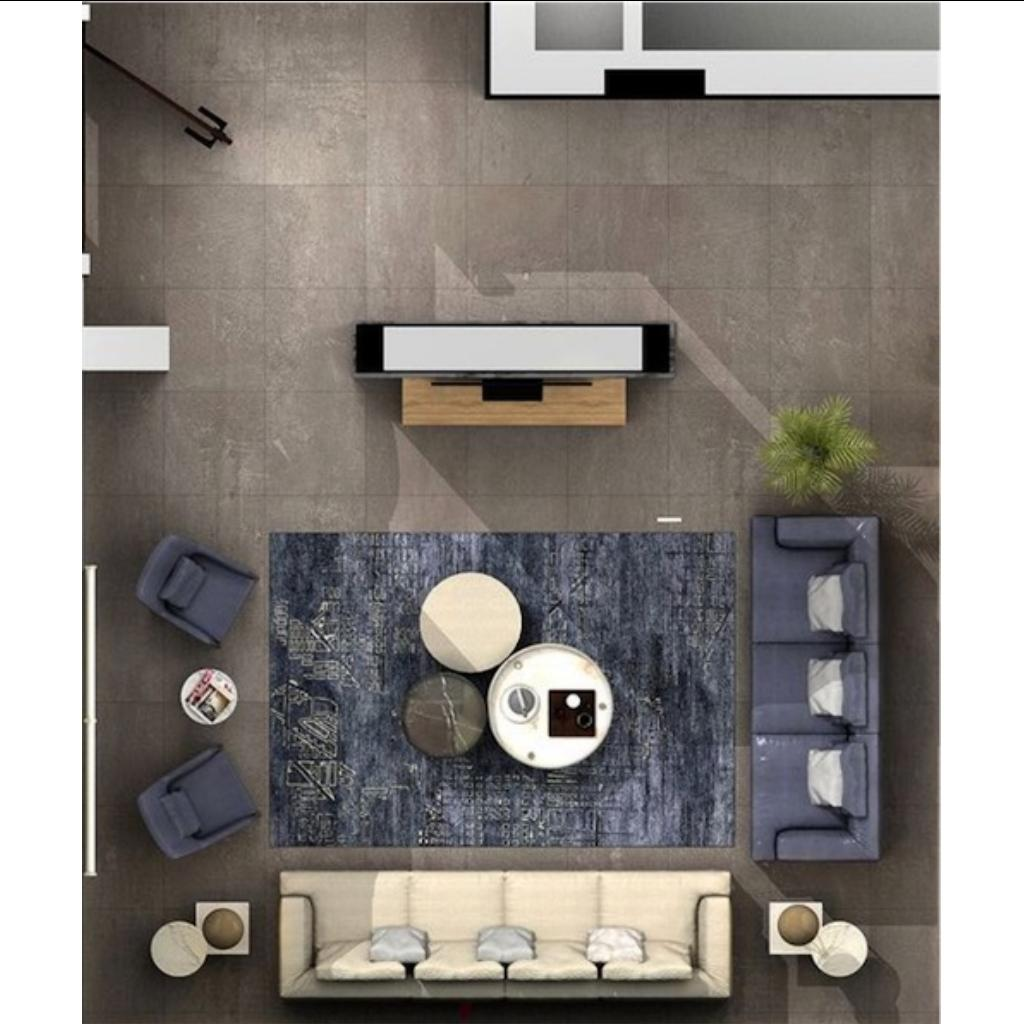TV stand: (355, 320, 679, 426)
chair: (136, 532, 256, 646), (137, 744, 261, 854)
coffee table: (406, 570, 616, 770)
floor plant: (770, 405, 866, 495)
rug: (268, 530, 736, 846)
side table: (152, 900, 252, 978), (769, 900, 869, 976), (181, 668, 237, 722)
sofa: (281, 870, 733, 998), (751, 514, 883, 862)
